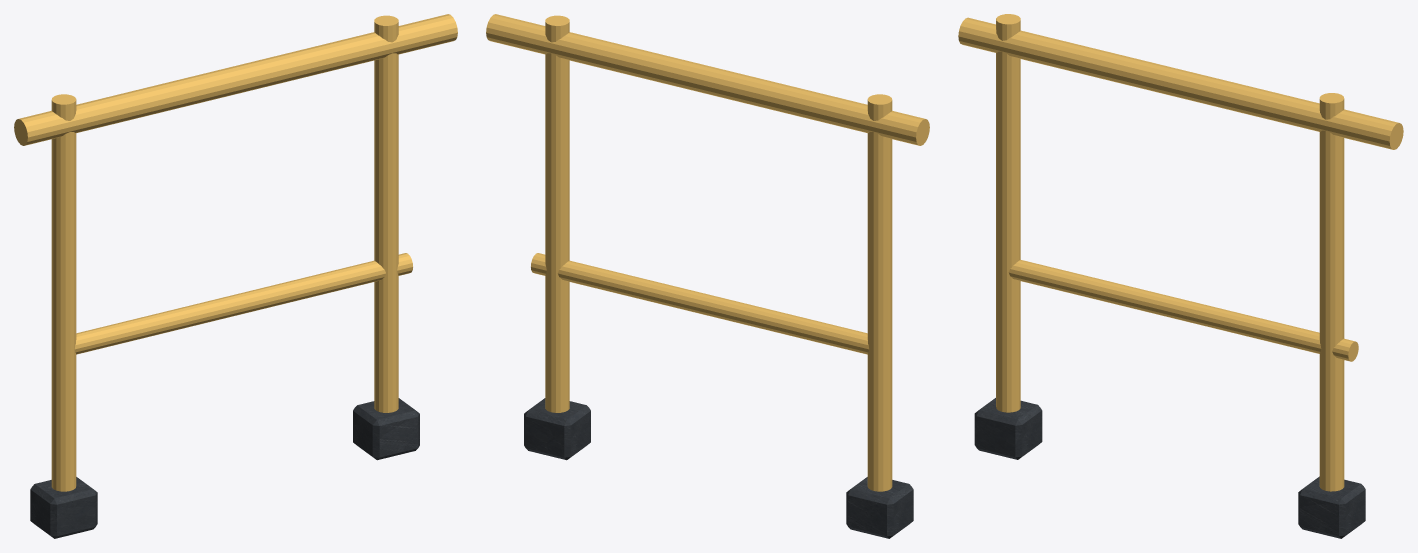
The model's file is train_railing.gltf.
3 renders of one model, left to right at view 1: azimuth 30°, elevation 25°; view 2: azimuth 150°, elevation 25°; view 3: azimuth 330°, elevation 25°, orthographic.
Size of the model in its own units: 1 by 0.95 by 0.1.
Materials: 2 (1 with a texture image).
